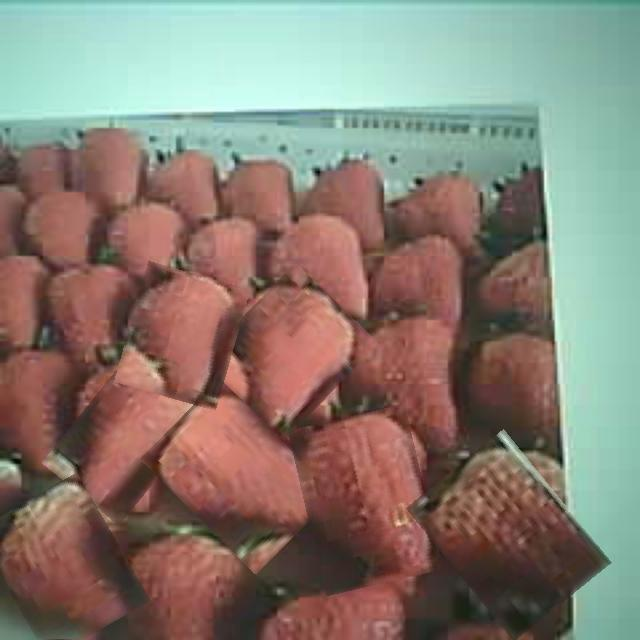strawberry: (426, 439, 592, 631), (160, 381, 323, 565), (298, 410, 434, 591), (216, 274, 362, 431), (60, 352, 196, 520), (0, 482, 136, 640), (121, 267, 242, 405)
